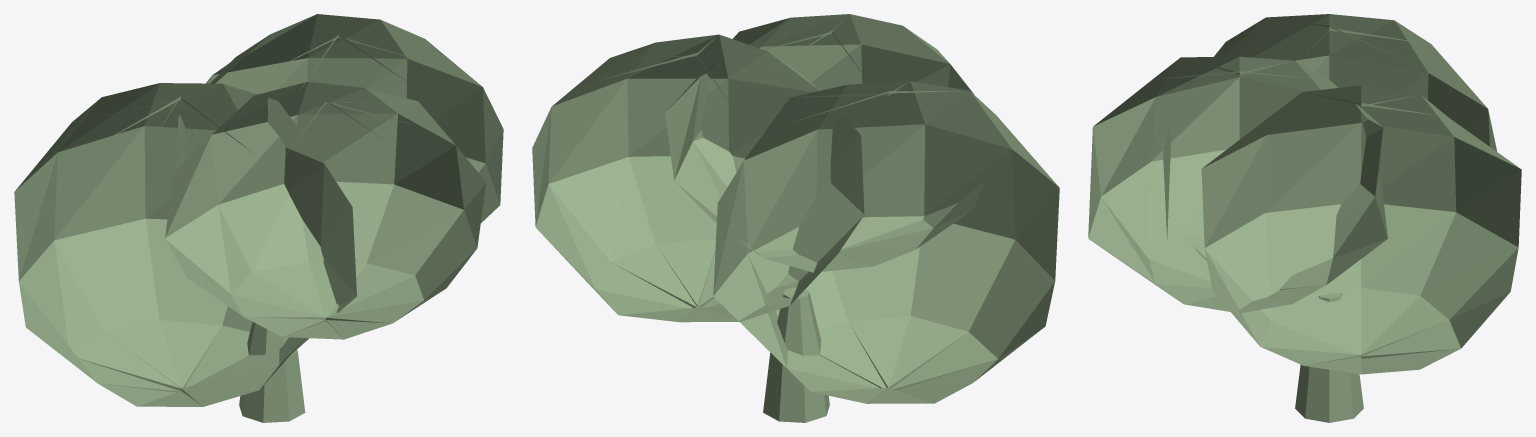
File: shrub-a.glb
3 renders of one model, left to right at view 1: azimuth 30°, elevation 25°; view 2: azimuth 150°, elevation 25°; view 3: azimuth 270°, elevation 25°, orthographic.
Visible parts, largest first — view 1: VEG_FOLIAGE; view 2: VEG_FOLIAGE; view 3: VEG_FOLIAGE.
Boxes of the visible parts, x1,y1,x2,y2 form: VEG_FOLIAGE: (14,14,503,422); VEG_FOLIAGE: (532,14,1059,422); VEG_FOLIAGE: (1088,14,1521,422).
Bounding box in the file's own units: 1.04 × 0.72 × 0.8186.
